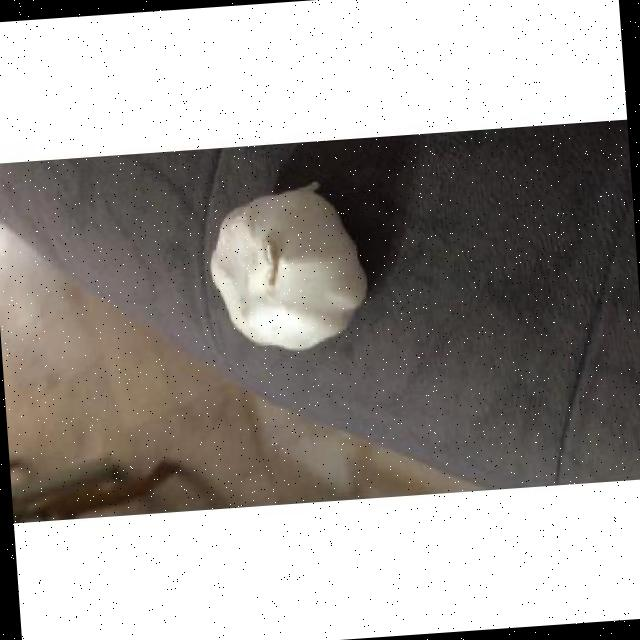garlic: (210, 181, 367, 350)
